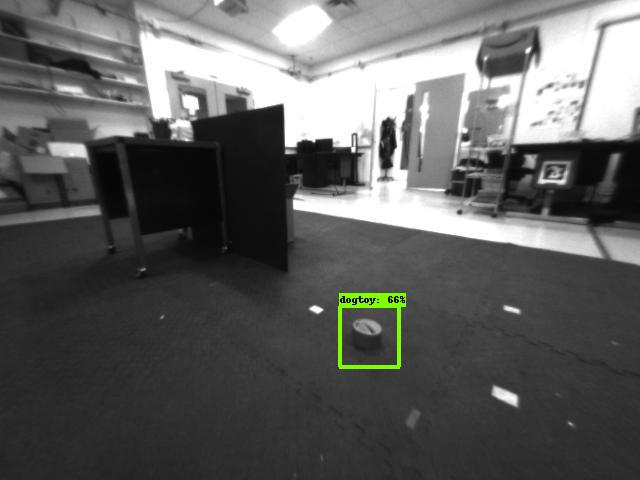dogtoy: (342, 309, 400, 370)
